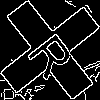R: (25, 25, 84, 82)
